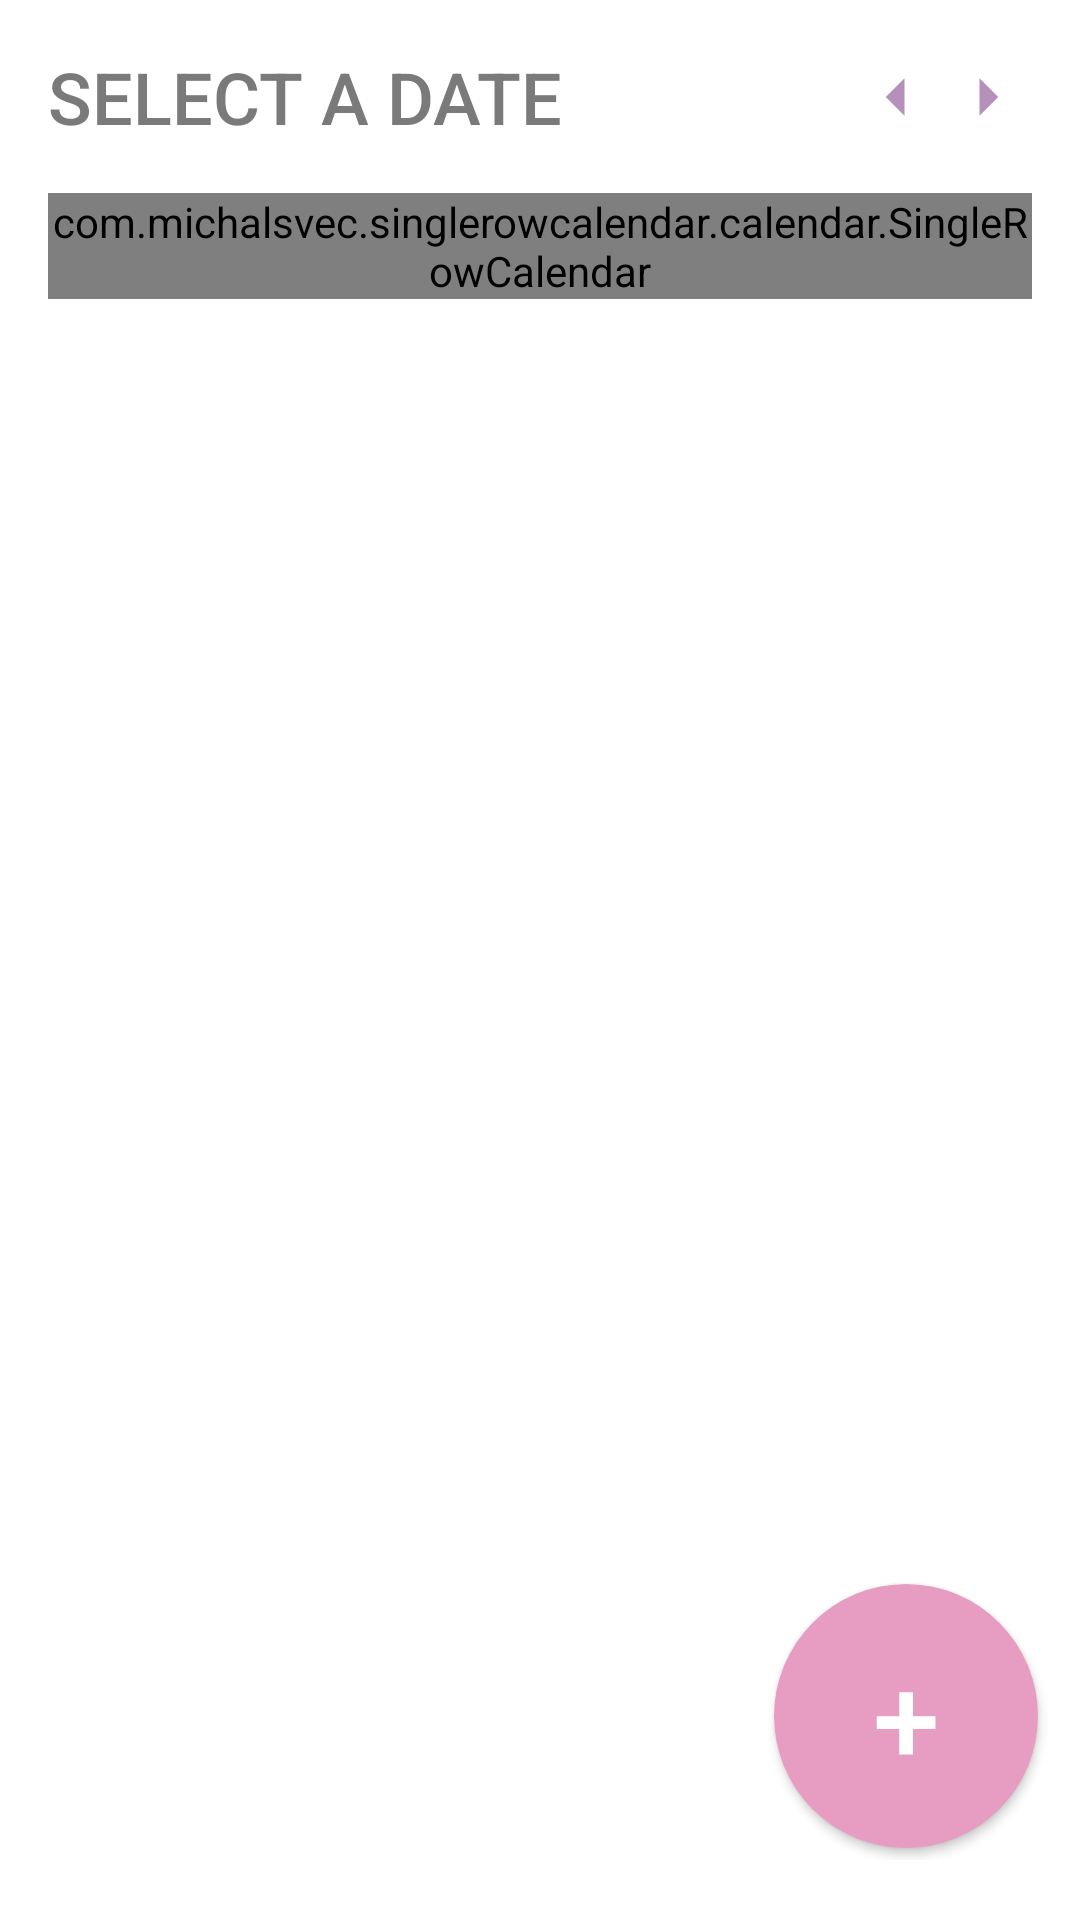

Icon click points for this 1080px×1920px phone screenshot, format (x,y):
arrow left: (895,97)
arrow right: (988,97)
